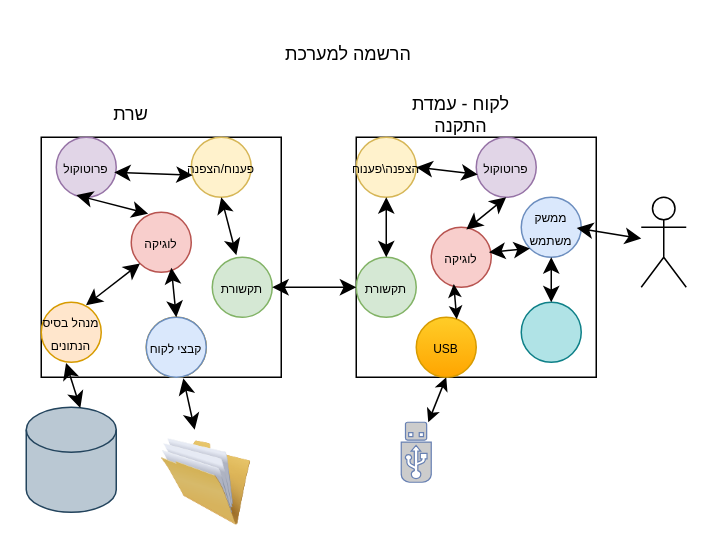
The diagram is 713 pixels wide and 560 high, and some of its shapes have lost their labels. Here are the shapes that lost their labels. From the top down, the centre of each, then its label:
(x=663, y=241): Actor
(x=550, y=331): בדיקות תקינות
